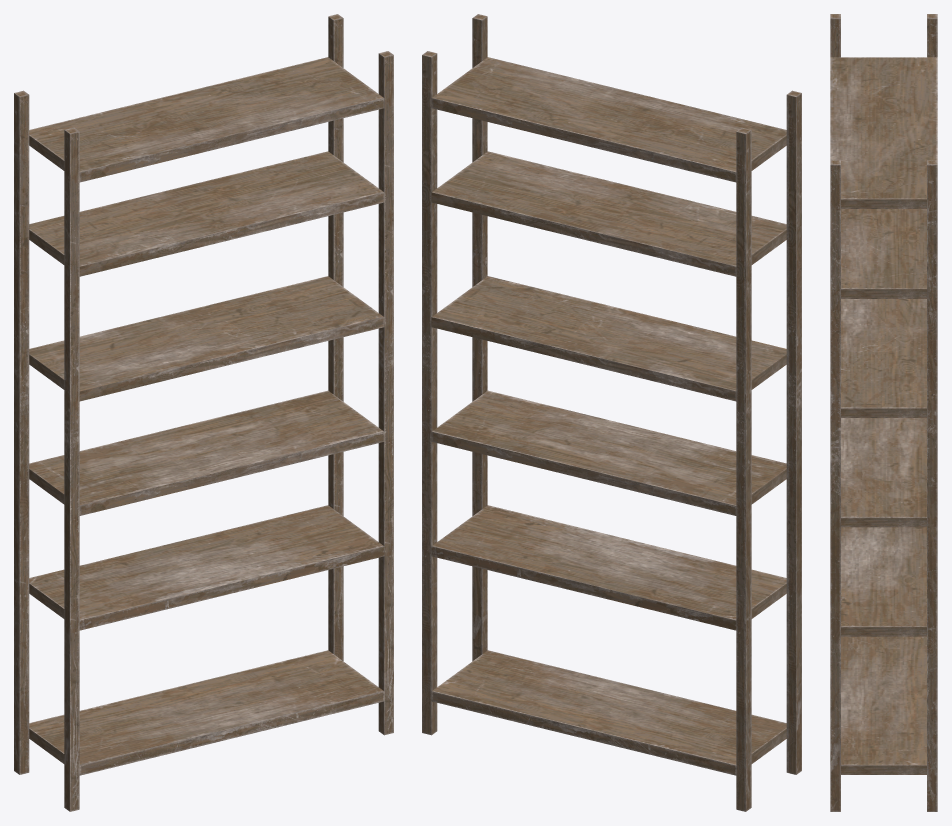
The model's file is SM_shelf_l.gltf.
3 views of the same model, side by side, from view 1: azimuth 30°, elevation 25°; view 2: azimuth 150°, elevation 25°; view 3: azimuth 270°, elevation 25° (orthographic). The views are drawn at different scales.
Parts seen in each view (by area): view 1: SM_shelf_l; view 2: SM_shelf_l; view 3: SM_shelf_l.
Part boxes in pixels (x1,y1,x2,y2): SM_shelf_l: [14, 14, 393, 811]; SM_shelf_l: [422, 14, 801, 811]; SM_shelf_l: [830, 14, 937, 811].
Size of the model in its own units: 1 by 2 by 0.3.
Materials: 1 (1 with a texture image).
